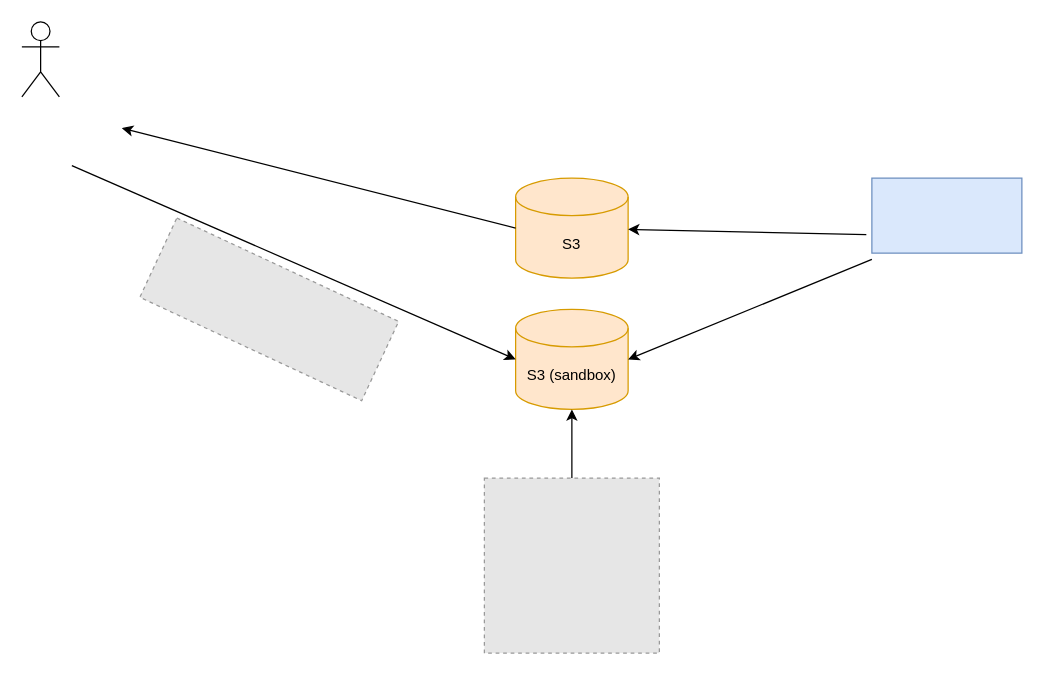
Some shapes in this 1044 by 675 pixel diagram are drawn without their labels. Grey dashed boxes stand in for pictures. The shapes that lost their labels are listed below. From the top down, each one's centre as x and y in pixels, then its label:
point 40,59: Actor
point 946,215: File Service
